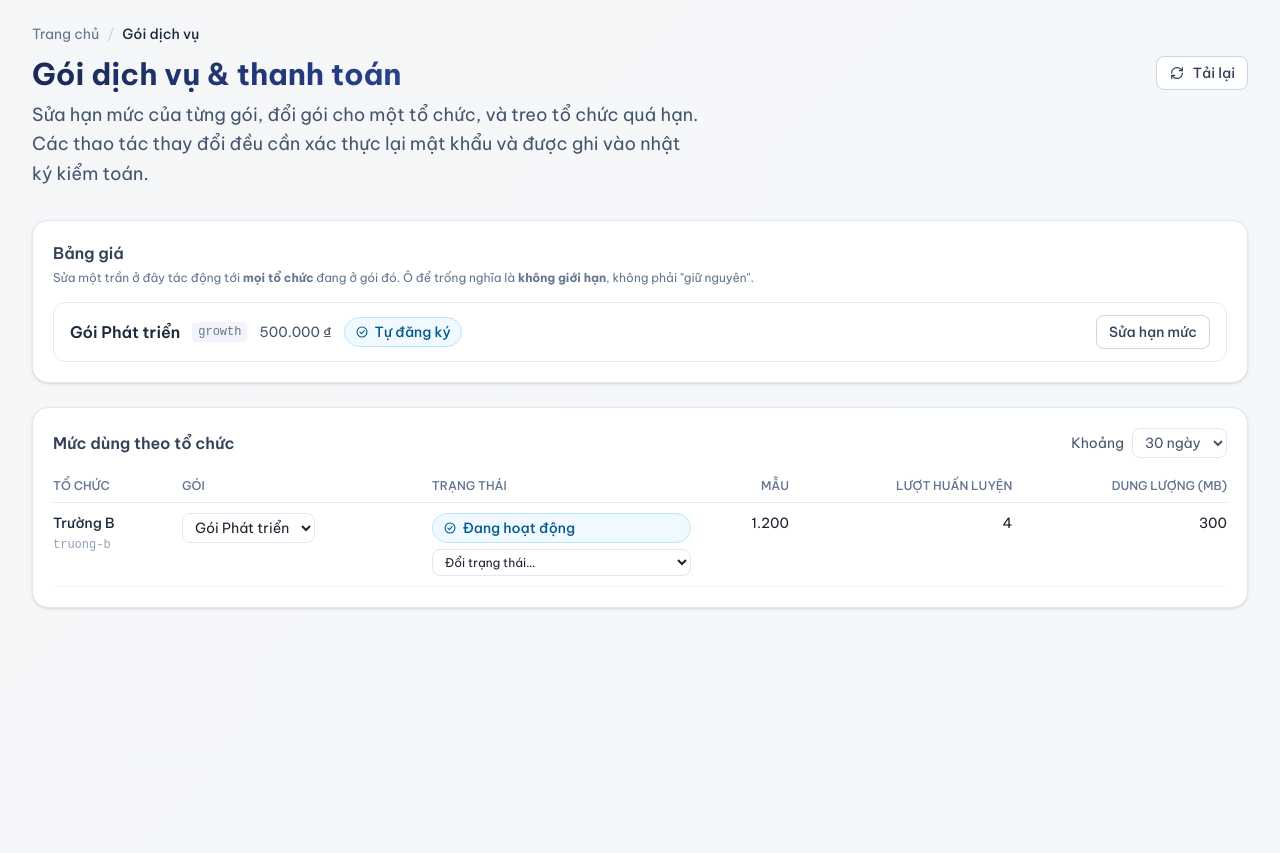
Test: Sửa hạn mức của một gói › không có gì đổi thì nút nói ra điều đó thay vì gửi một yêu cầu rỗng
Click the button "Sửa hạn mức".
click(1153, 332)  # box [1096,315,1210,349]
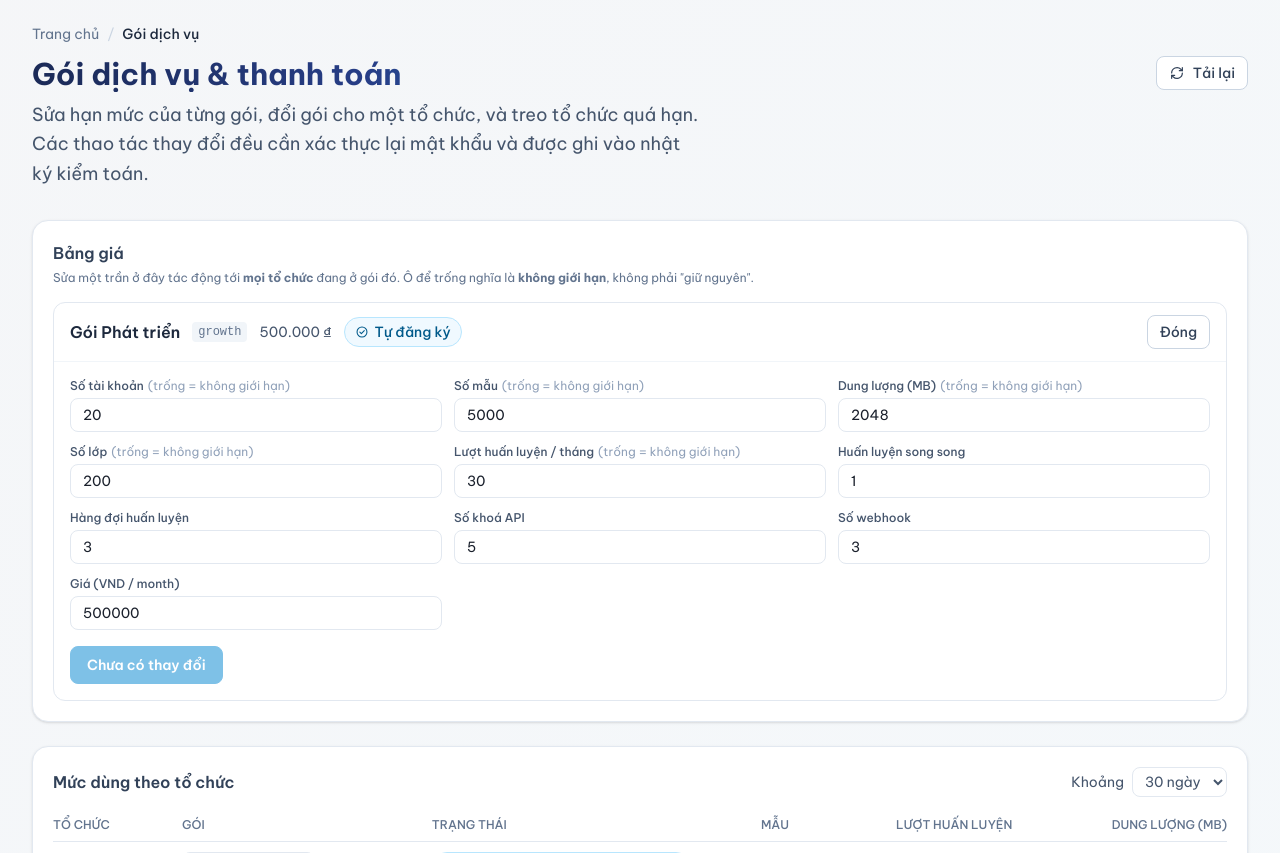
Expected: the button "Chưa có thay đổi" is disabled, [70,646,223,684]
